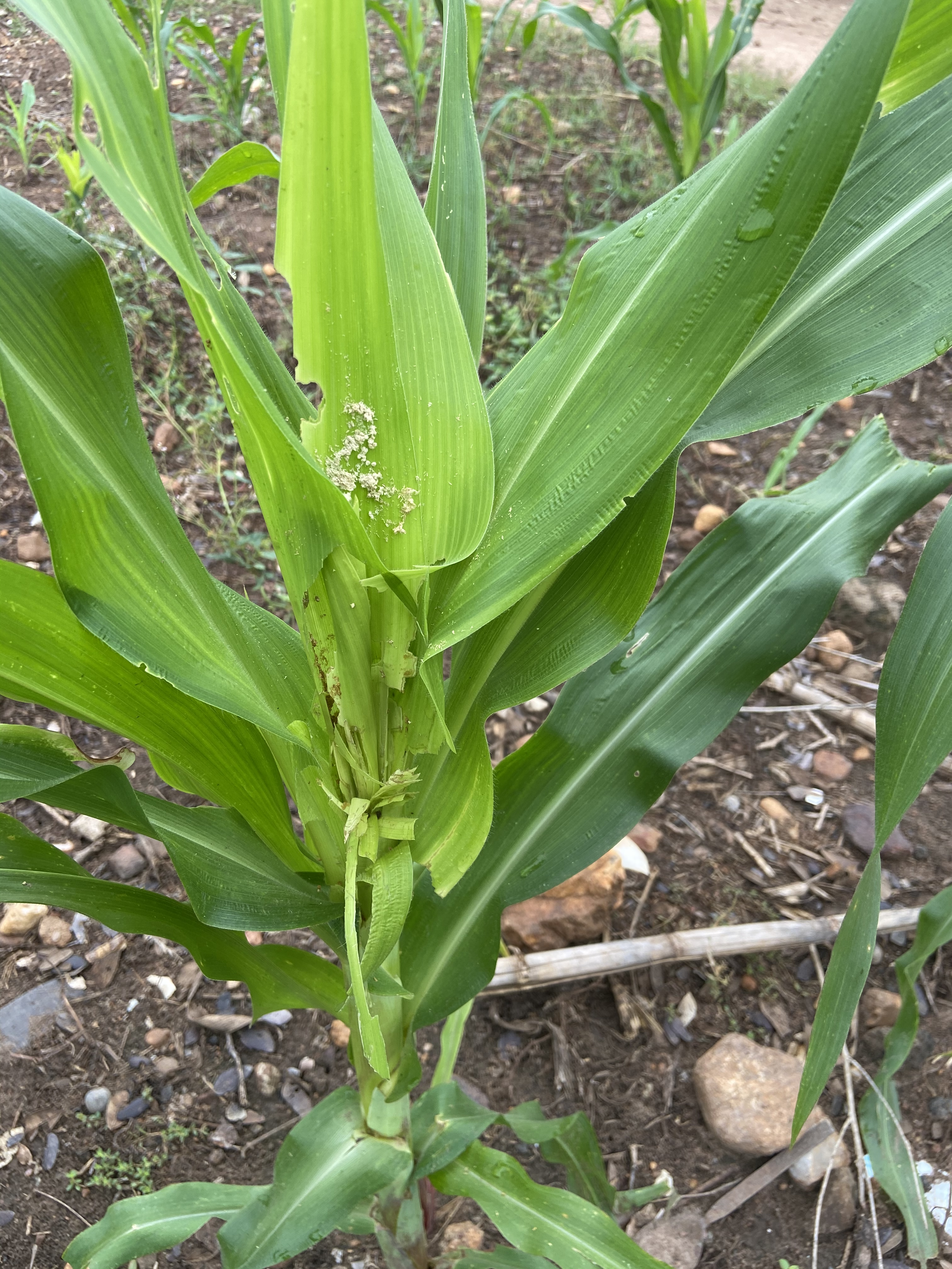early_to_moderate: (301, 374, 458, 554)
severe: (280, 729, 500, 1049), (252, 464, 373, 726)
